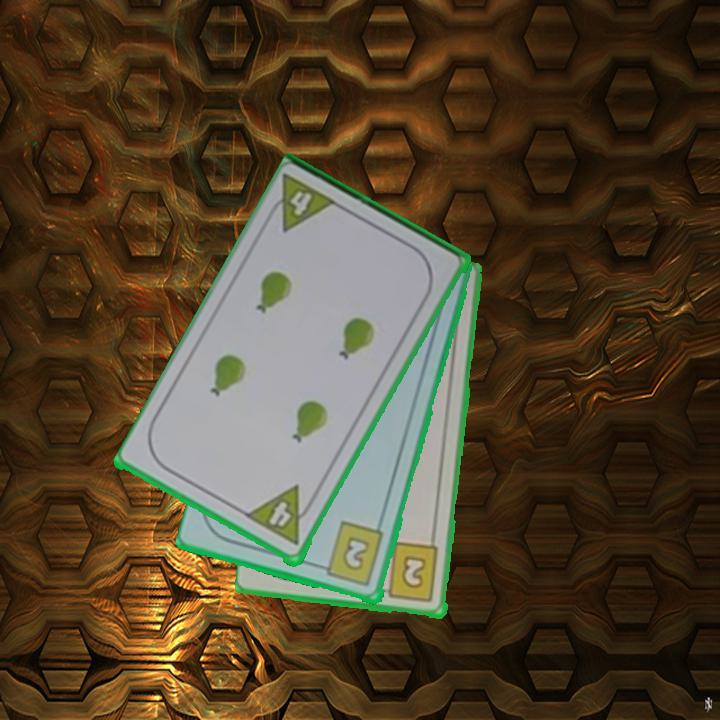2b: (314, 519, 387, 590), (376, 540, 441, 605)
4p: (261, 170, 342, 236), (243, 483, 319, 549)
